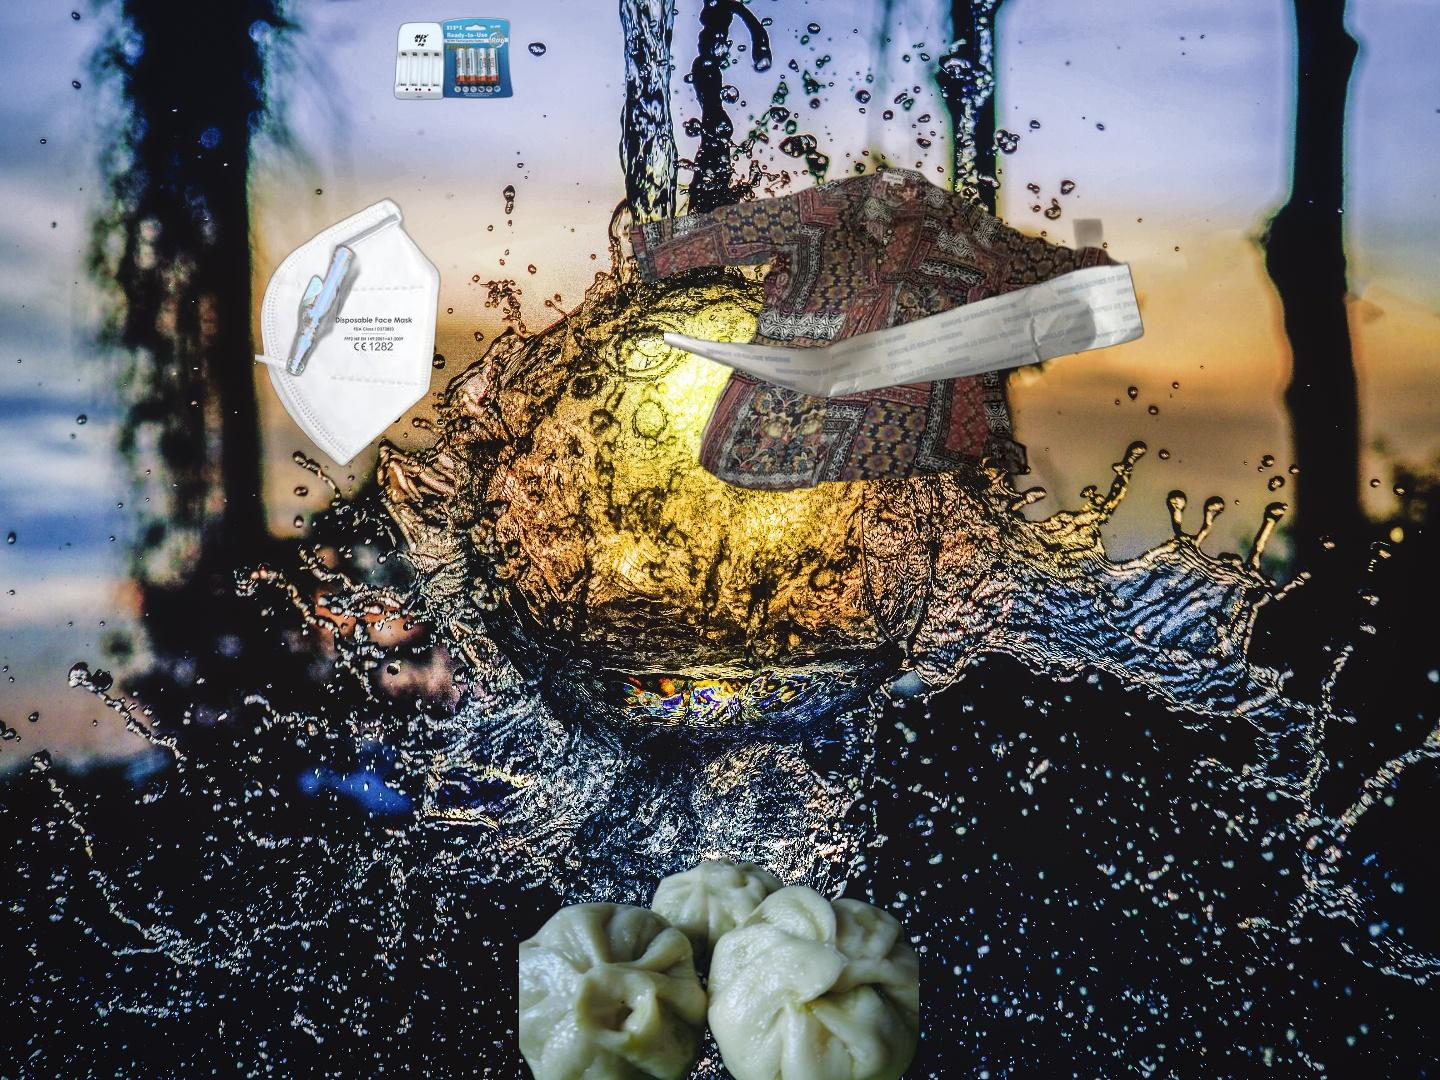battery: (391, 15, 516, 103)
biological: (519, 854, 920, 1080)
clothes: (625, 164, 1127, 493)
glass: (281, 239, 365, 382)
paper: (664, 255, 1157, 400)
trash: (255, 197, 441, 467)
